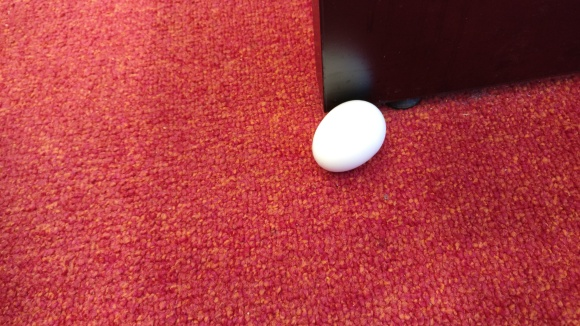egg: (311, 100, 387, 173)
